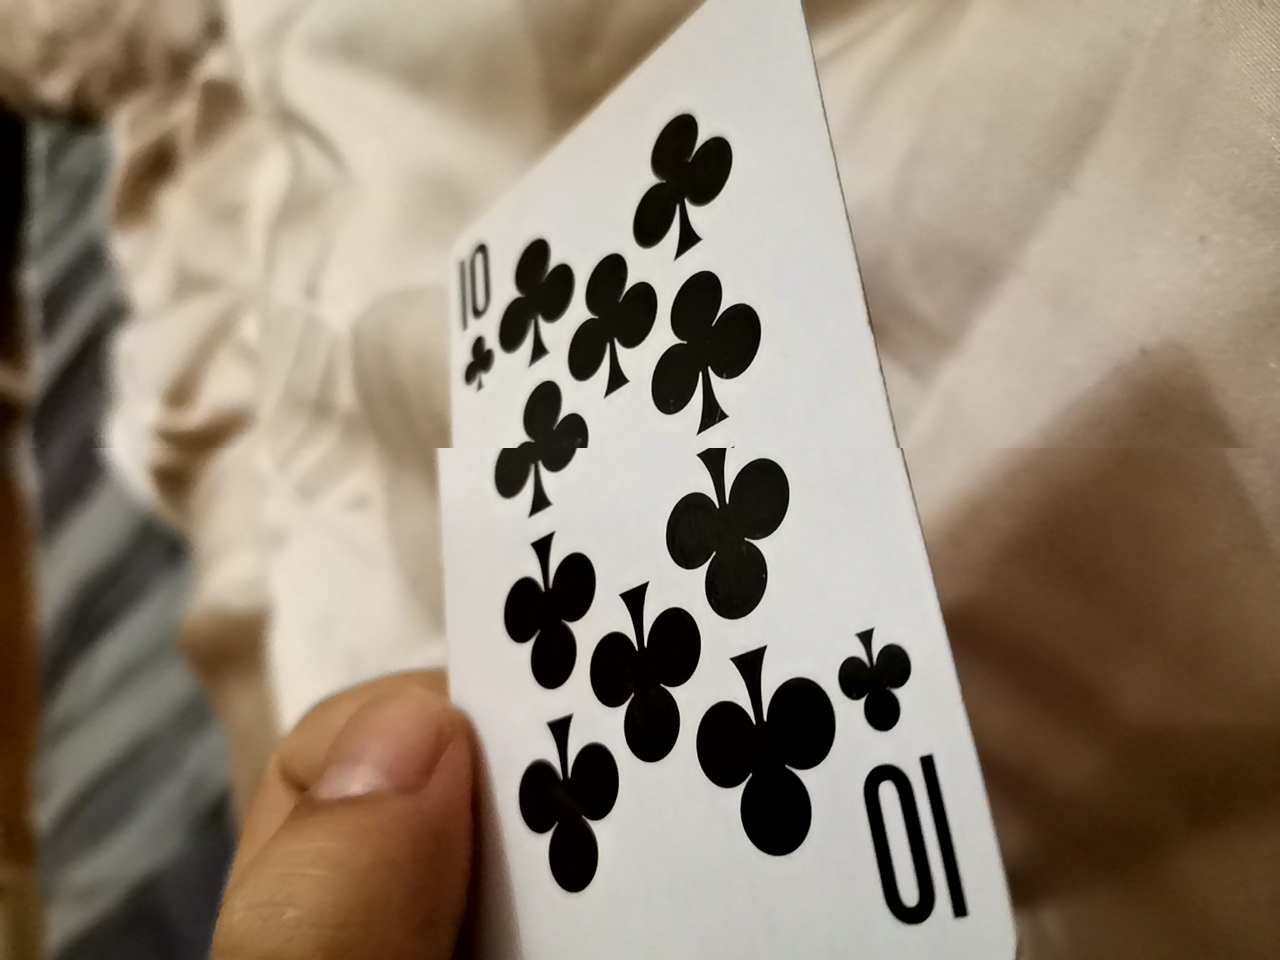mh 10: (428, 13, 996, 952)
